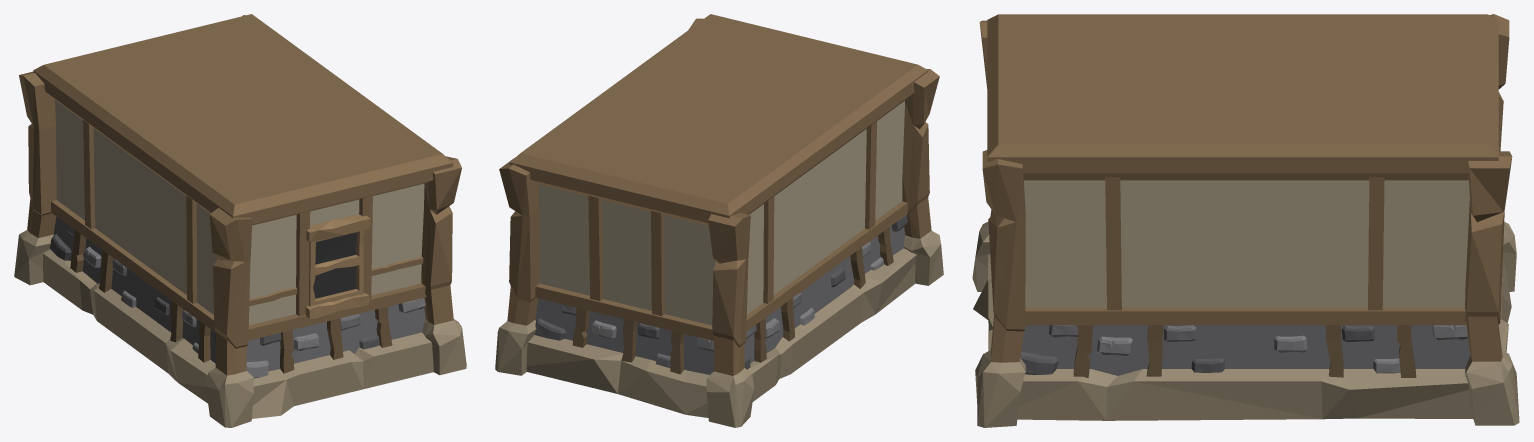
The model's file is SM_Bld_House_Foundation_05.gltf.
The picture shows the model from 3 angles, left to right: view 1: azimuth 30°, elevation 25°; view 2: azimuth 150°, elevation 25°; view 3: azimuth 270°, elevation 25°; orthographic projection. The views are drawn at different scales.
Visible parts, largest first — view 1: SM_Bld_House_Foundation_05; view 2: SM_Bld_House_Foundation_05; view 3: SM_Bld_House_Foundation_05.
Boxes of the visible parts, x1=… form: SM_Bld_House_Foundation_05: x1=14, y1=14, x2=466, y2=427; SM_Bld_House_Foundation_05: x1=495, y1=14, x2=943, y2=427; SM_Bld_House_Foundation_05: x1=972, y1=14, x2=1519, y2=427.
Bounding box in the file's own units: 3.43 × 2.81 × 5.12.
1 material, 1 textured.
